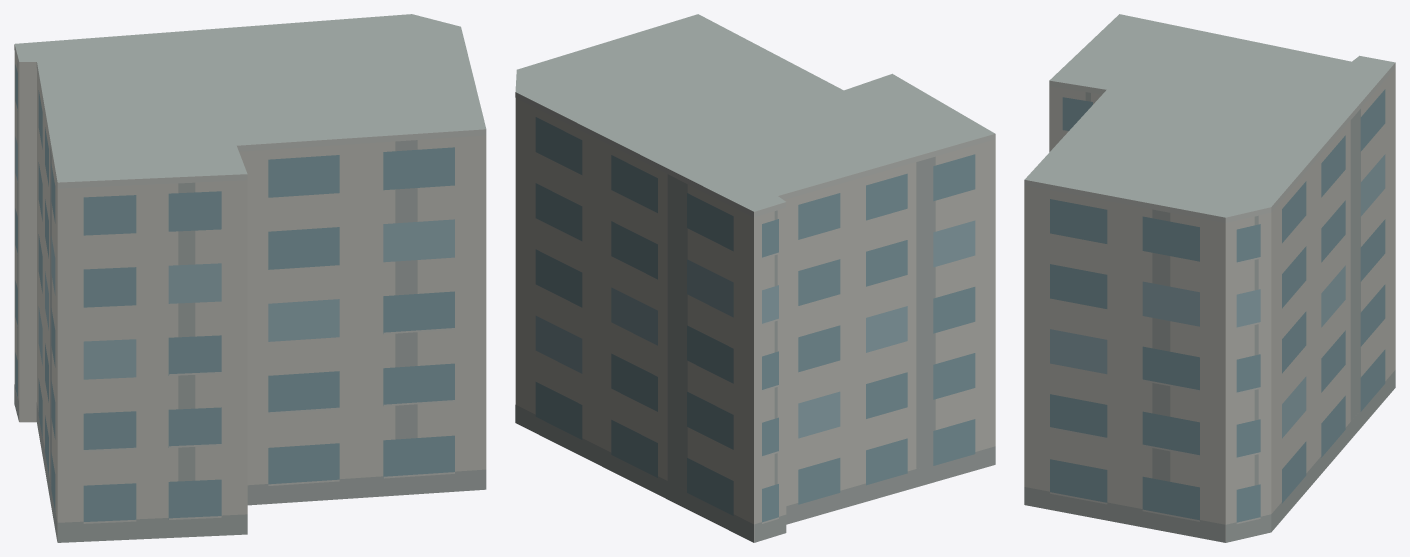
File: survey-upis-32879751.glb
3 views of the same model, side by side, from view 1: azimuth 30°, elevation 25°; view 2: azimuth 150°, elevation 25°; view 3: azimuth 270°, elevation 25° (orthographic). The views are drawn at different scales.
Parts seen in each view (by area): view 1: survey-upis-32879751.tmp; view 2: survey-upis-32879751.tmp; view 3: survey-upis-32879751.tmp.
Boxes of the visible parts, left/top/right/bottom form: survey-upis-32879751.tmp: left=14, top=14, right=486, bottom=542; survey-upis-32879751.tmp: left=515, top=14, right=995, bottom=542; survey-upis-32879751.tmp: left=1024, top=14, right=1395, bottom=542.
Bounding box in the file's own units: 18.94 × 14.1 × 14.59.
